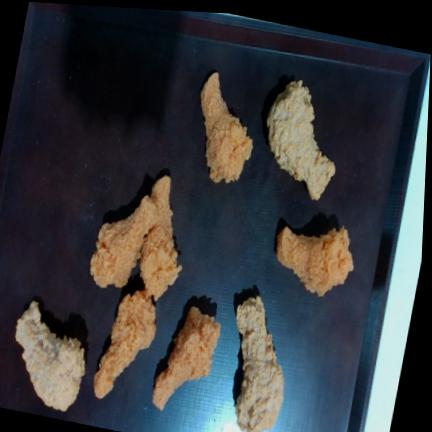chicken: (266, 81, 335, 198), (15, 301, 85, 411), (152, 306, 220, 410), (93, 289, 156, 398), (235, 295, 283, 432), (90, 195, 157, 287), (201, 72, 252, 182), (276, 226, 353, 295), (140, 177, 182, 300)
